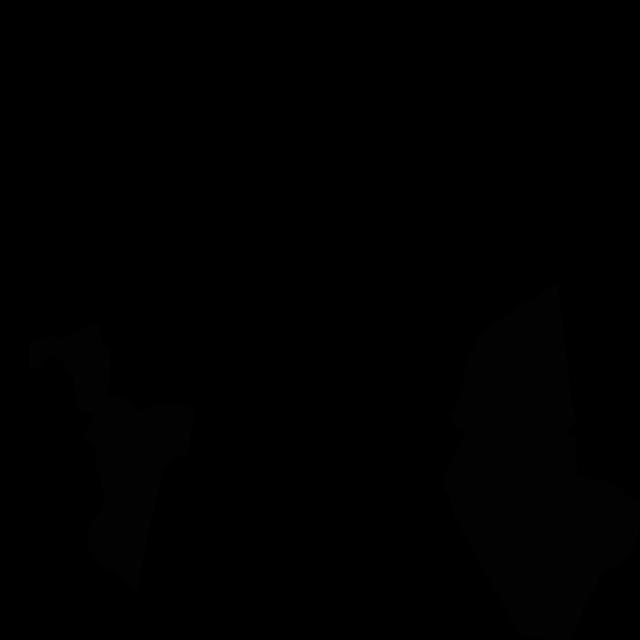cardboard: (442, 283, 640, 640), (29, 323, 194, 592)
